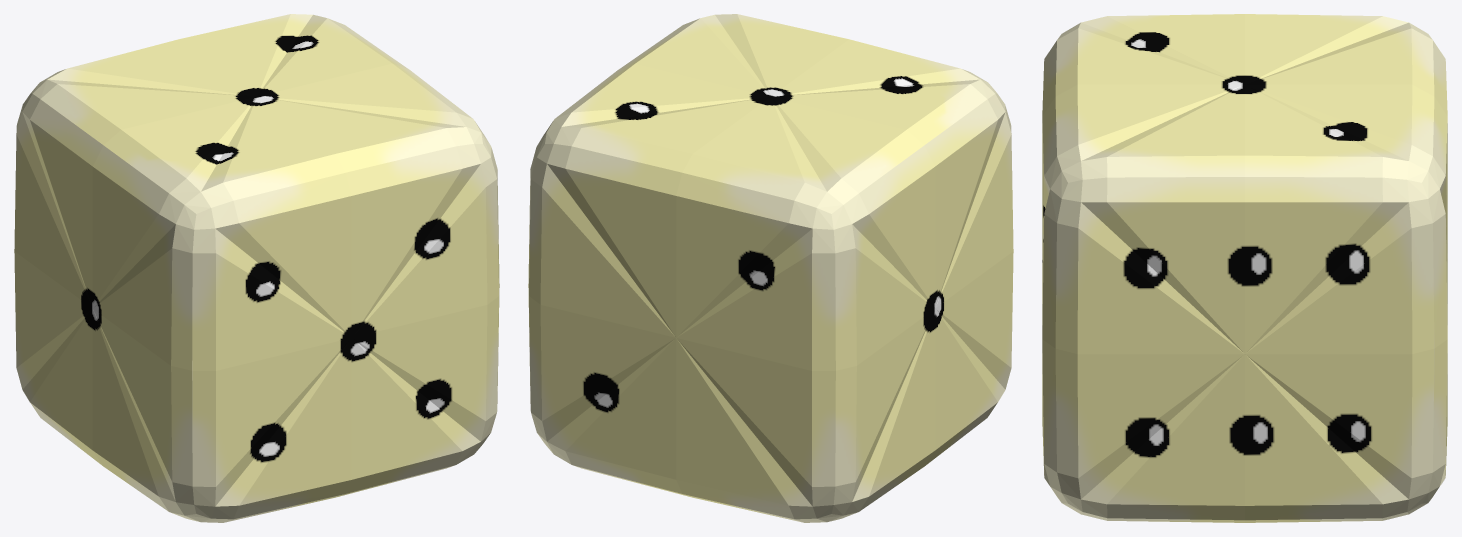
The model's file is dice.obj.
3 views of the same model, side by side, from view 1: azimuth 30°, elevation 25°; view 2: azimuth 150°, elevation 25°; view 3: azimuth 270°, elevation 25° (orthographic). The views are drawn at different scales.
Visible parts, largest first — view 1: Dice_Cube; view 2: Dice_Cube; view 3: Dice_Cube.
Part boxes in pixels (bbox=[...]): Dice_Cube: bbox=[14, 14, 499, 522]; Dice_Cube: bbox=[528, 14, 1013, 522]; Dice_Cube: bbox=[1042, 14, 1447, 522].
Bounding box in the file's own units: 1.92 × 1.92 × 1.92.
Materials: 1 (1 with a texture image).
